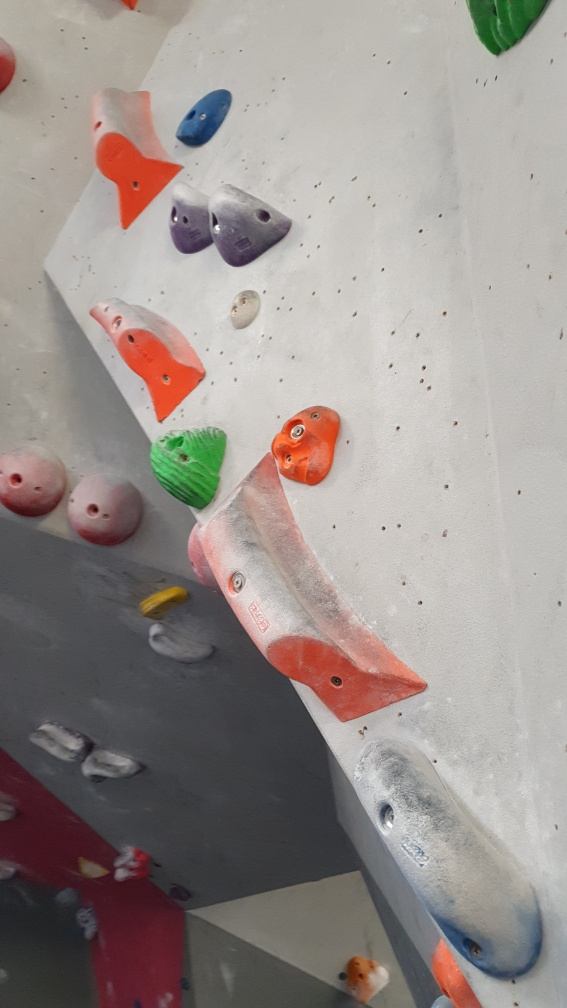Crimp: (174, 88, 234, 156)
Jug: (144, 424, 231, 512), (203, 182, 295, 265), (167, 179, 220, 266)
Pinch: (189, 451, 435, 728), (349, 730, 545, 979), (85, 294, 212, 427), (90, 82, 188, 229)
Sloper: (64, 467, 146, 553), (1, 438, 65, 519)
